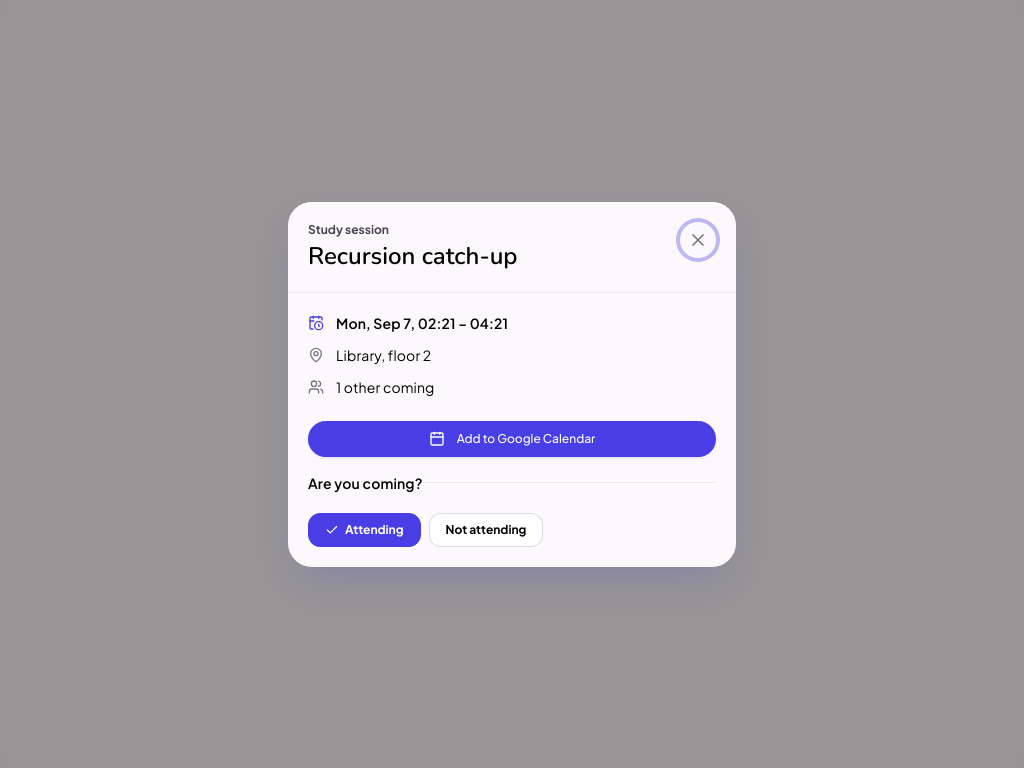
MeetingDetailsDialog › surfaces a refusal rather than pretending it saved
This screenshot has width=1024, height=768.
Click the button "Not attending". click: (486, 530)
box: [428,512,543,546]
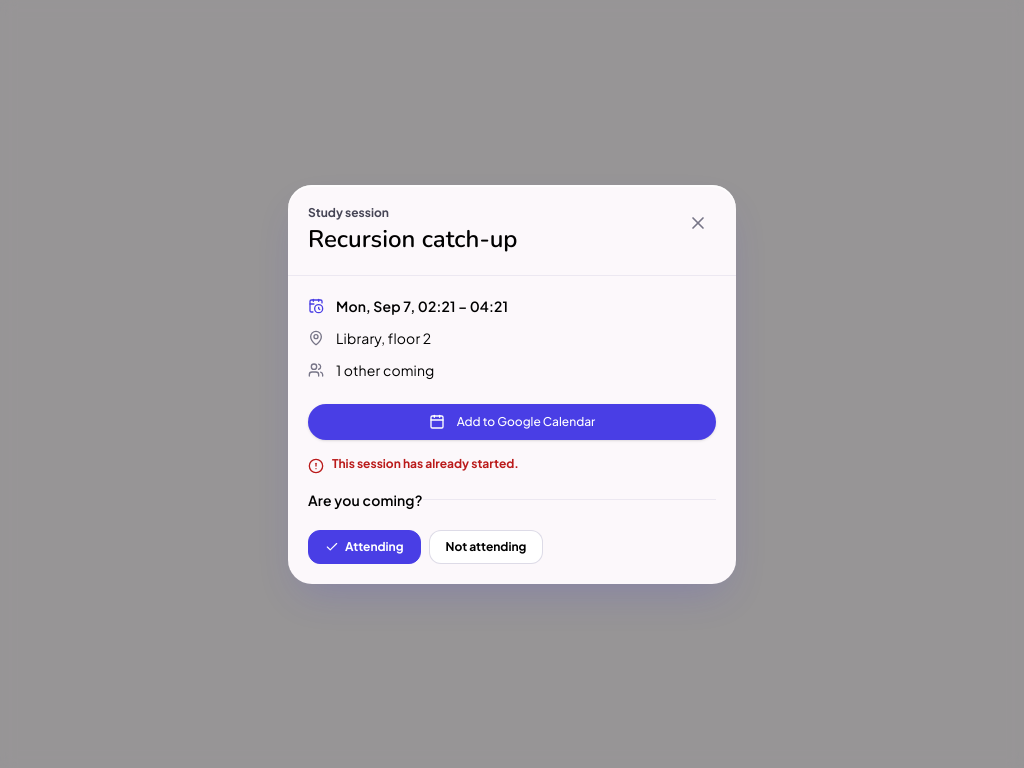
Now the message reads "This session has already started.", box [332,456,519,470]
